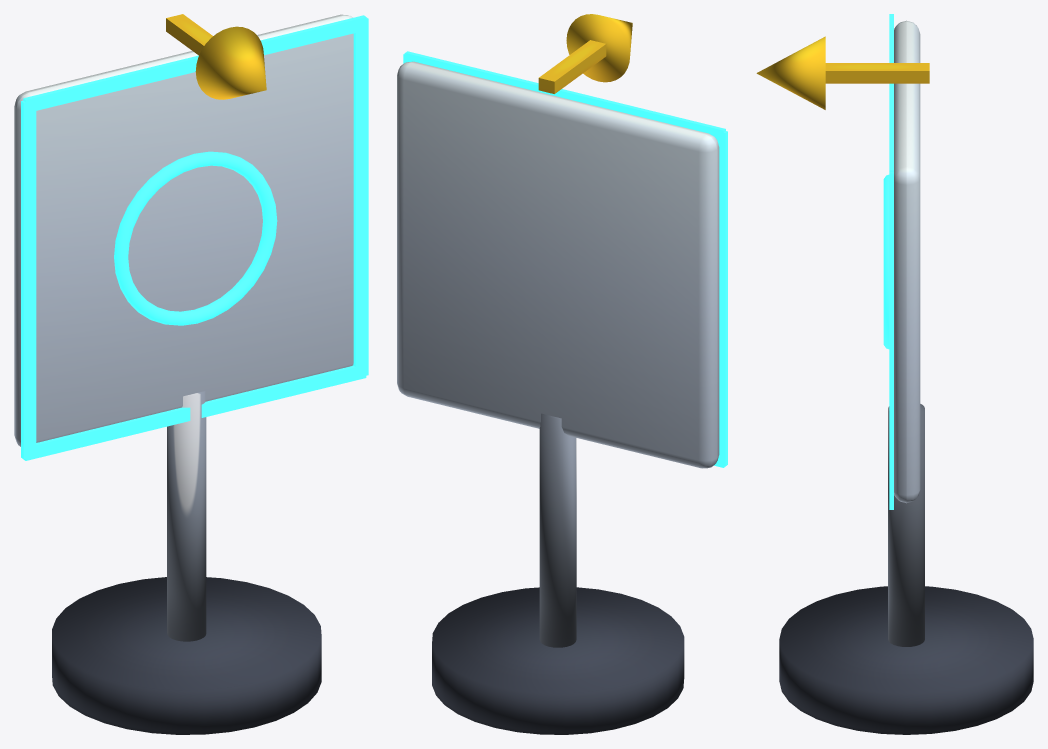
The model's file is ReboundBoard.fbx.
The picture shows the model from 3 angles, left to right: view 1: azimuth 30°, elevation 25°; view 2: azimuth 150°, elevation 25°; view 3: azimuth 270°, elevation 25°; orthographic projection. The views are drawn at different scales.
Visible parts, largest first — view 1: BoardMesh, base; view 2: BoardMesh, base; view 3: base, BoardMesh.
Boxes of the visible parts, bbox=[...] form: BoardMesh: bbox=[14, 14, 368, 641]; base: bbox=[52, 577, 321, 734]; BoardMesh: bbox=[397, 14, 727, 647]; base: bbox=[432, 587, 684, 734]; base: bbox=[779, 586, 1033, 734]; BoardMesh: bbox=[756, 14, 929, 646].
Size of the model in its own units: 1.62 by 3.06 by 1.2.
Materials: 3 (2 with a texture image).
